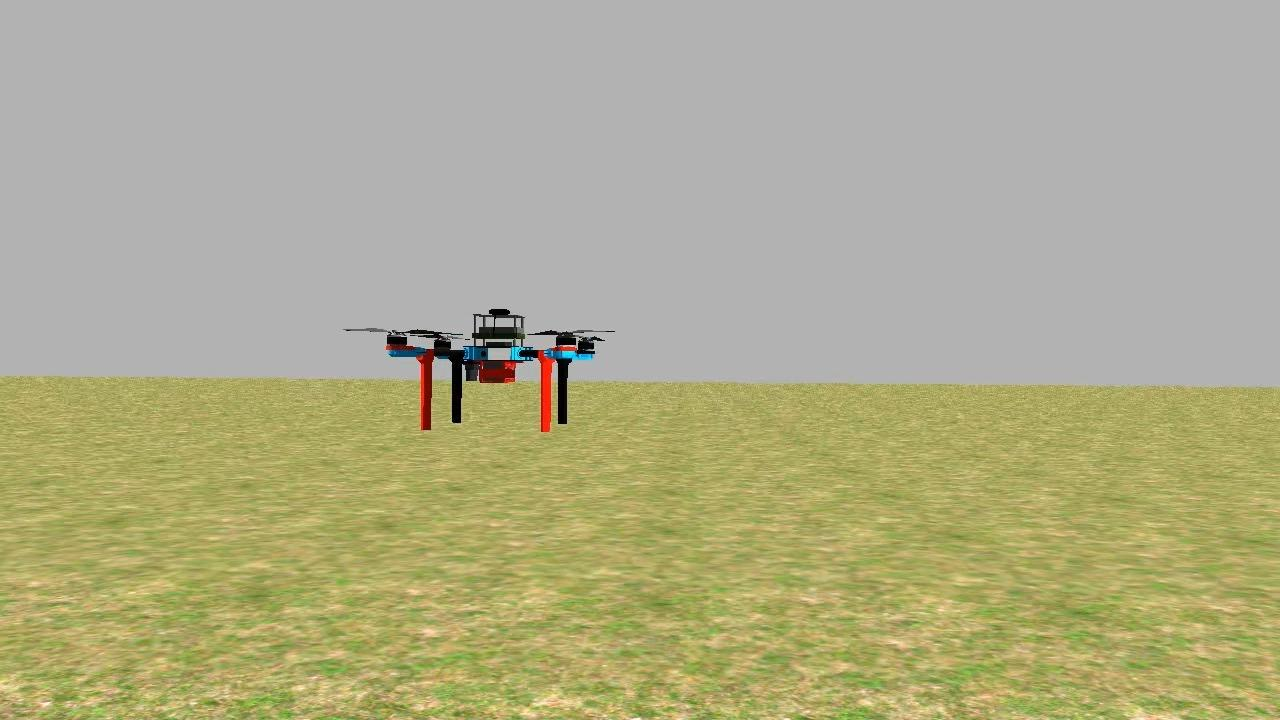UAV: (380, 302, 607, 437)
